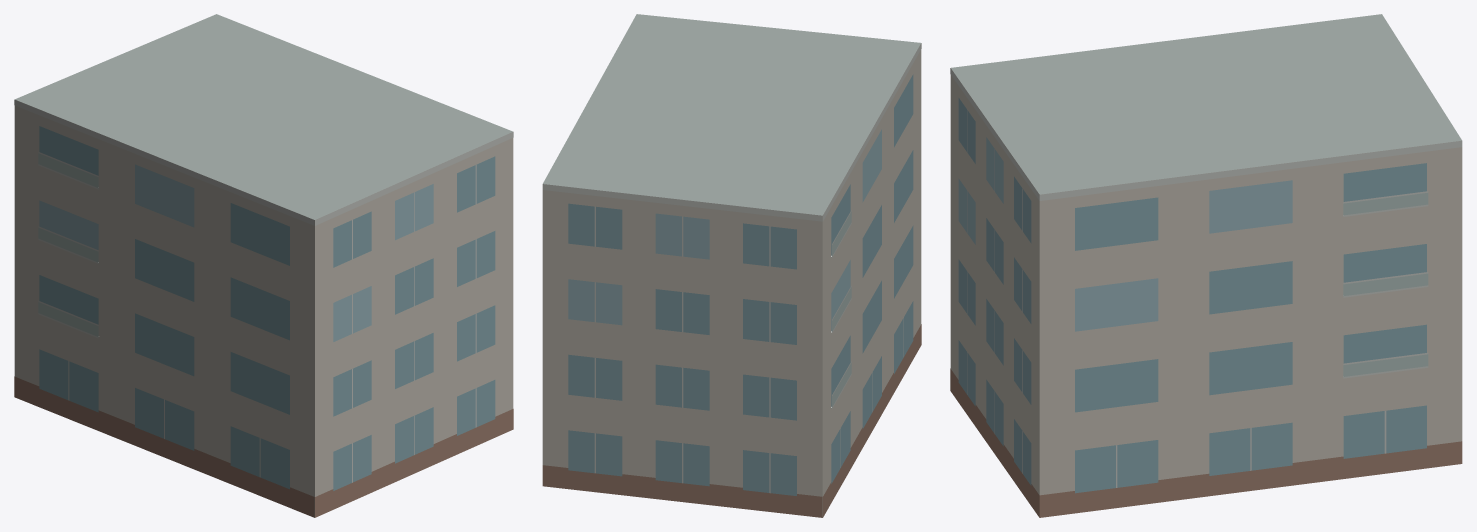
The model's file is survey-upis-32735688.glb.
3 views of the same model, side by side, from view 1: azimuth 30°, elevation 25°; view 2: azimuth 150°, elevation 25°; view 3: azimuth 270°, elevation 25° (orthographic). The views are drawn at different scales.
Visible parts, largest first — view 1: survey-upis-32735688.tmp; view 2: survey-upis-32735688.tmp; view 3: survey-upis-32735688.tmp.
Boxes of the visible parts, left/top/right/bottom form: survey-upis-32735688.tmp: left=14, top=14, right=513, bottom=517; survey-upis-32735688.tmp: left=542, top=14, right=921, bottom=517; survey-upis-32735688.tmp: left=950, top=14, right=1462, bottom=517.
Bounding box in the file's own units: 14.76 × 12.3 × 17.66.
